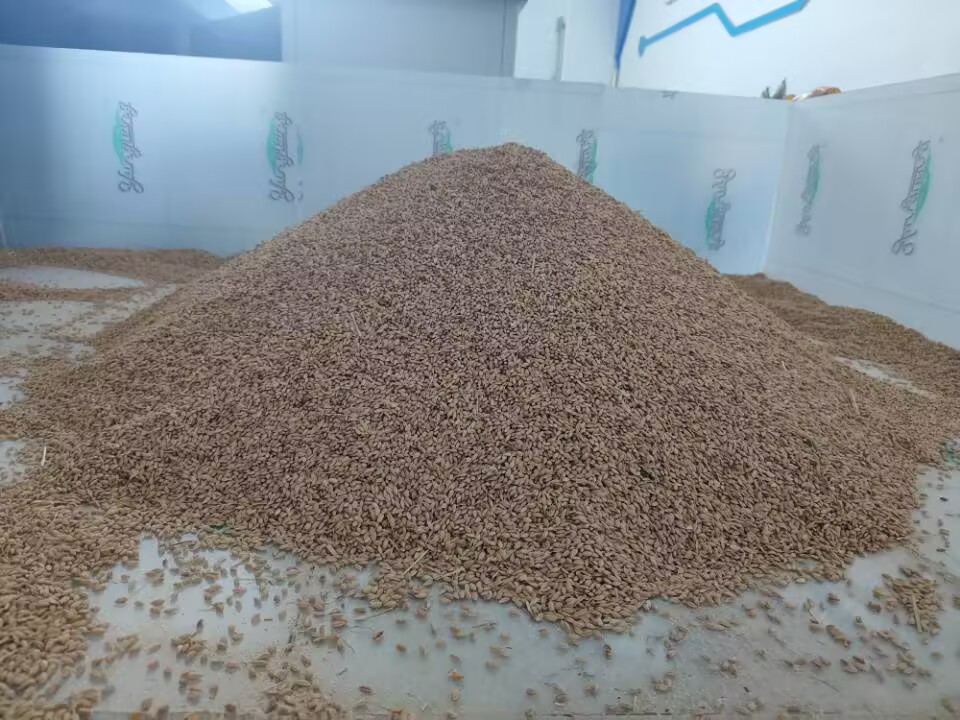Grain: (132, 119, 849, 553)
